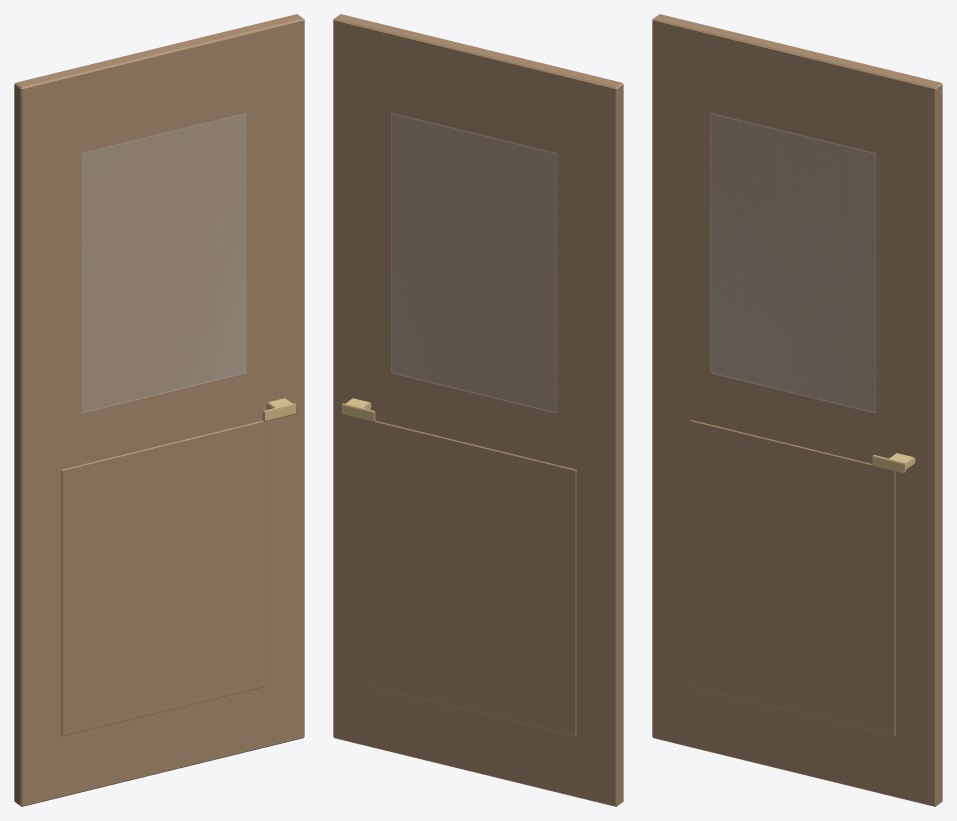
The model's file is puerta_hoja_vidrio.glb.
3 renders of one model, left to right at view 1: azimuth 30°, elevation 25°; view 2: azimuth 150°, elevation 25°; view 3: azimuth 330°, elevation 25°, orthographic.
Visible parts, largest first — view 1: puerta_hoja_vidrio; view 2: puerta_hoja_vidrio; view 3: puerta_hoja_vidrio.
Boxes of the visible parts, x1,y1,x2,y2 form: puerta_hoja_vidrio: (14, 14, 304, 806); puerta_hoja_vidrio: (333, 14, 623, 806); puerta_hoja_vidrio: (652, 14, 942, 806).
Size of the model in its own units: 0.86 by 2.08 by 0.16.
